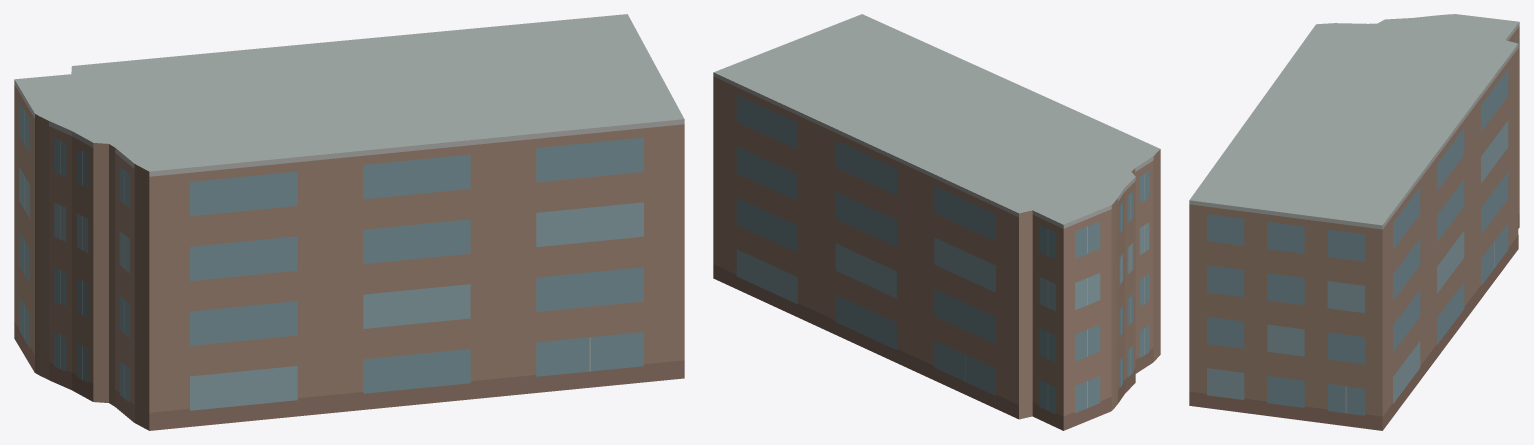
File: survey-upis-32800095.glb
3 renders of one model, left to right at view 1: azimuth 30°, elevation 25°; view 2: azimuth 150°, elevation 25°; view 3: azimuth 270°, elevation 25°, orthographic. The views are drawn at different scales.
Parts seen in each view (by area): view 1: survey-upis-32800095.tmp; view 2: survey-upis-32800095.tmp; view 3: survey-upis-32800095.tmp.
Part boxes in pixels (bbox=[...]): survey-upis-32800095.tmp: bbox=[14, 14, 684, 430]; survey-upis-32800095.tmp: bbox=[713, 14, 1160, 430]; survey-upis-32800095.tmp: bbox=[1189, 14, 1519, 430].
Size of the model in its own units: 27.38 by 12.4 by 18.08.
